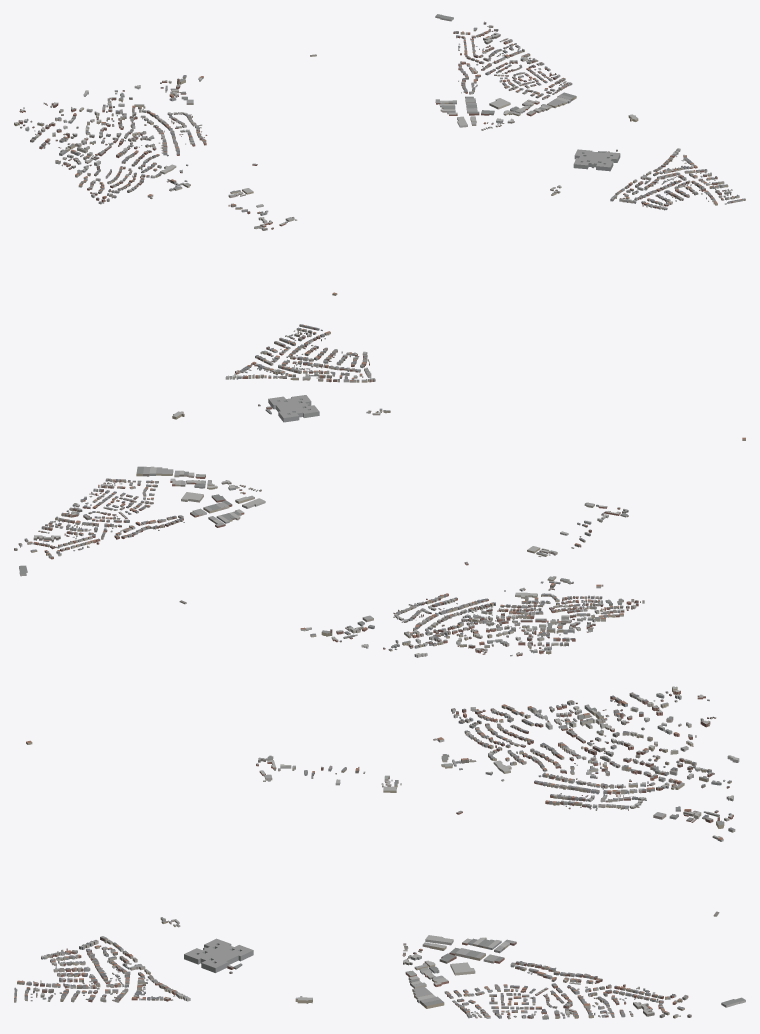
File: buildings_b0_0_0.glb
3 views of the same model, one above another, from view 1: azimuth 30°, elevation 25°; view 2: azimuth 150°, elevation 25°; view 3: azimuth 270°, elevation 25° (orthographic). The views are drawn at different scales.
Parts seen in each view (by area): view 1: t00_03_buildings_b0, t03_02_buildings_b0, t03_00_buildings_b0, t00_02_buildings_b0, t03_03_buildings_b0, t01_03_buildings_b0, t03_01_buildings_b0; view 2: t00_03_buildings_b0, t03_02_buildings_b0, t03_00_buildings_b0, t00_02_buildings_b0, t03_03_buildings_b0, t01_03_buildings_b0, t03_01_buildings_b0; view 3: t00_03_buildings_b0, t03_02_buildings_b0, t03_00_buildings_b0, t00_02_buildings_b0, t03_03_buildings_b0, t01_03_buildings_b0, t03_01_buildings_b0.
Part boxes in pixels (x1=…): t00_03_buildings_b0: x1=14, y1=90, x2=178, y2=167; t03_02_buildings_b0: x1=435, y1=62, x2=576, y2=130; t03_00_buildings_b0: x1=610, y1=148, x2=745, y2=210; t00_02_buildings_b0: x1=68, y1=147, x2=245, y2=204; t03_03_buildings_b0: x1=435, y1=14, x2=538, y2=81; t01_03_buildings_b0: x1=114, y1=75, x2=207, y2=144; t03_01_buildings_b0: x1=573, y1=114, x2=638, y2=171; t00_03_buildings_b0: x1=402, y1=602, x2=593, y2=657; t03_02_buildings_b0: x1=72, y1=466, x2=261, y2=529; t03_00_buildings_b0: x1=225, y1=324, x2=375, y2=382; t00_02_buildings_b0: x1=471, y1=548, x2=644, y2=625; t03_03_buildings_b0: x1=14, y1=507, x2=159, y2=576; t01_03_buildings_b0: x1=300, y1=594, x2=463, y2=651; t03_01_buildings_b0: x1=172, y1=395, x2=319, y2=422; t00_03_buildings_b0: x1=552, y1=686, x2=739, y2=789; t03_02_buildings_b0: x1=402, y1=937, x2=555, y2=1019; t03_00_buildings_b0: x1=14, y1=936, x2=190, y2=1002; t00_02_buildings_b0: x1=381, y1=704, x2=556, y2=787; t03_03_buildings_b0: x1=552, y1=967, x2=745, y2=1018; t01_03_buildings_b0: x1=552, y1=779, x2=735, y2=841; t03_01_buildings_b0: x1=184, y1=938, x2=312, y2=1003.
Bounding box in the file's own units: 2017 × 93.23 × 2035.
